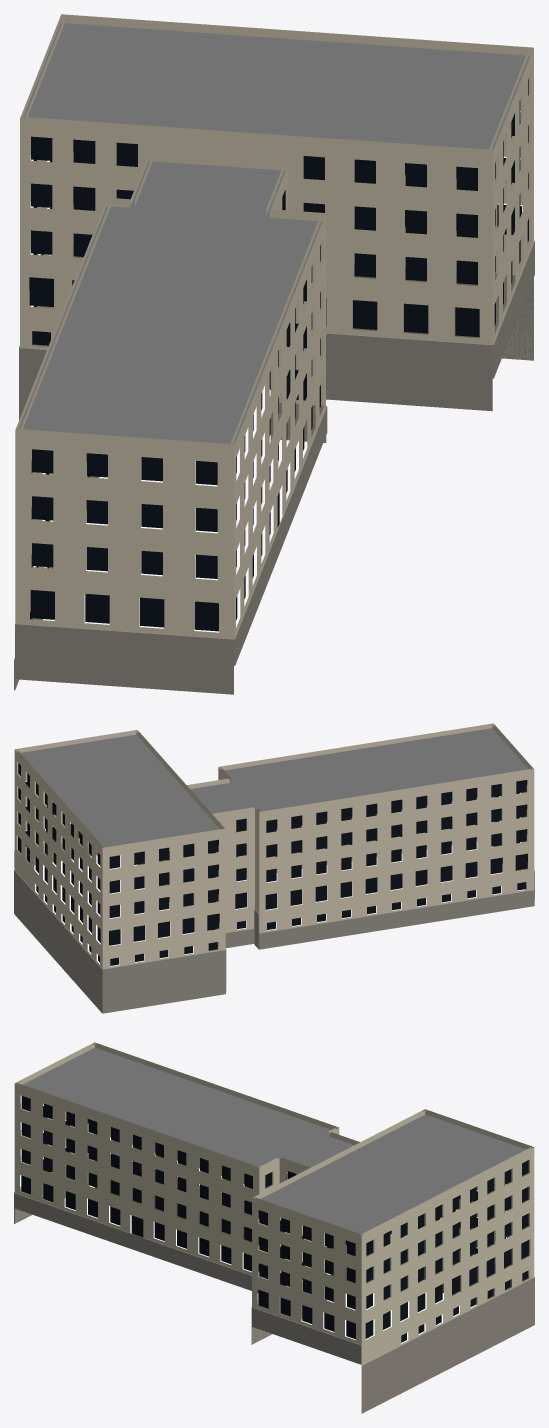
Rendered from voronina10.lod.glb.
3 views of the same model, one above another, from view 1: azimuth 30°, elevation 25°; view 2: azimuth 150°, elevation 25°; view 3: azimuth 270°, elevation 25° (orthographic). The views are drawn at different scales.
Visible parts, largest first — view 1: voronina10_wall, voronina10_roof, voronina10_stone, voronina10_glass; view 2: voronina10_wall, voronina10_roof, voronina10_stone, voronina10_glass; view 3: voronina10_wall, voronina10_roof, voronina10_stone, voronina10_glass.
Part boxes in pixels (x1,y1,x2,y2): voronina10_wall: (15, 14, 533, 686); voronina10_roof: (18, 23, 530, 444); voronina10_stone: (14, 240, 534, 694); voronina10_glass: (29, 79, 528, 631); voronina10_wall: (14, 723, 534, 969); voronina10_roof: (21, 728, 528, 847); voronina10_stone: (14, 835, 534, 1013); voronina10_glass: (18, 763, 527, 965); voronina10_wall: (14, 1042, 534, 1365); voronina10_roof: (23, 1047, 525, 1234); voronina10_stone: (14, 1155, 534, 1413); voronina10_glass: (21, 1096, 528, 1342).
Size of the model in its own units: 59 by 23.36 by 62.09.
